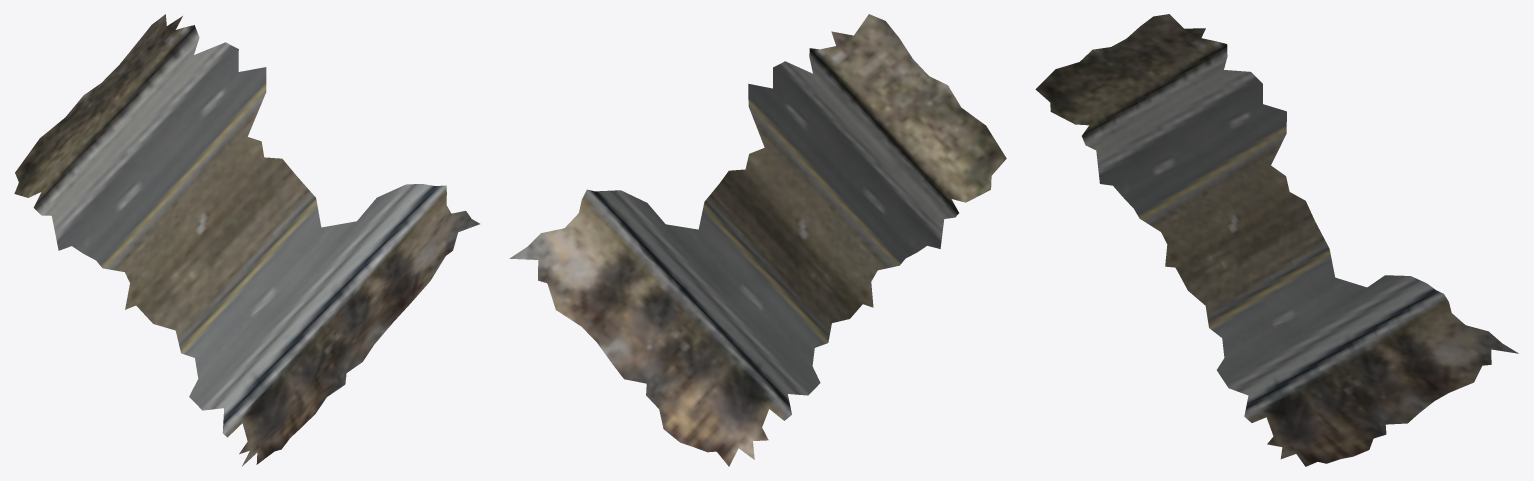
The picture shows the model from 3 angles, left to right: view 1: azimuth 30°, elevation 25°; view 2: azimuth 150°, elevation 25°; view 3: azimuth 330°, elevation 25°; orthographic projection. The views are drawn at different scales.
Visible parts, largest first — view 1: textured_mesh.part; view 2: textured_mesh.part; view 3: textured_mesh.part.
Part boxes in pixels (x1,y1,x2,y2): textured_mesh.part: (14, 14, 479, 466); textured_mesh.part: (509, 14, 1006, 466); textured_mesh.part: (1035, 14, 1518, 466).
Bounding box in the file's own units: 56.76 × 54.02 × 8.18.
Materials: 1 (1 with a texture image).
